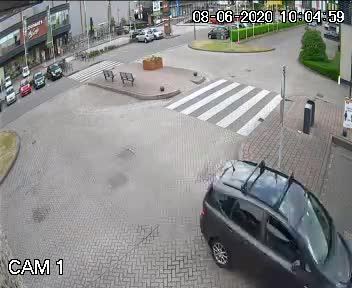car: (194, 141, 352, 288)
